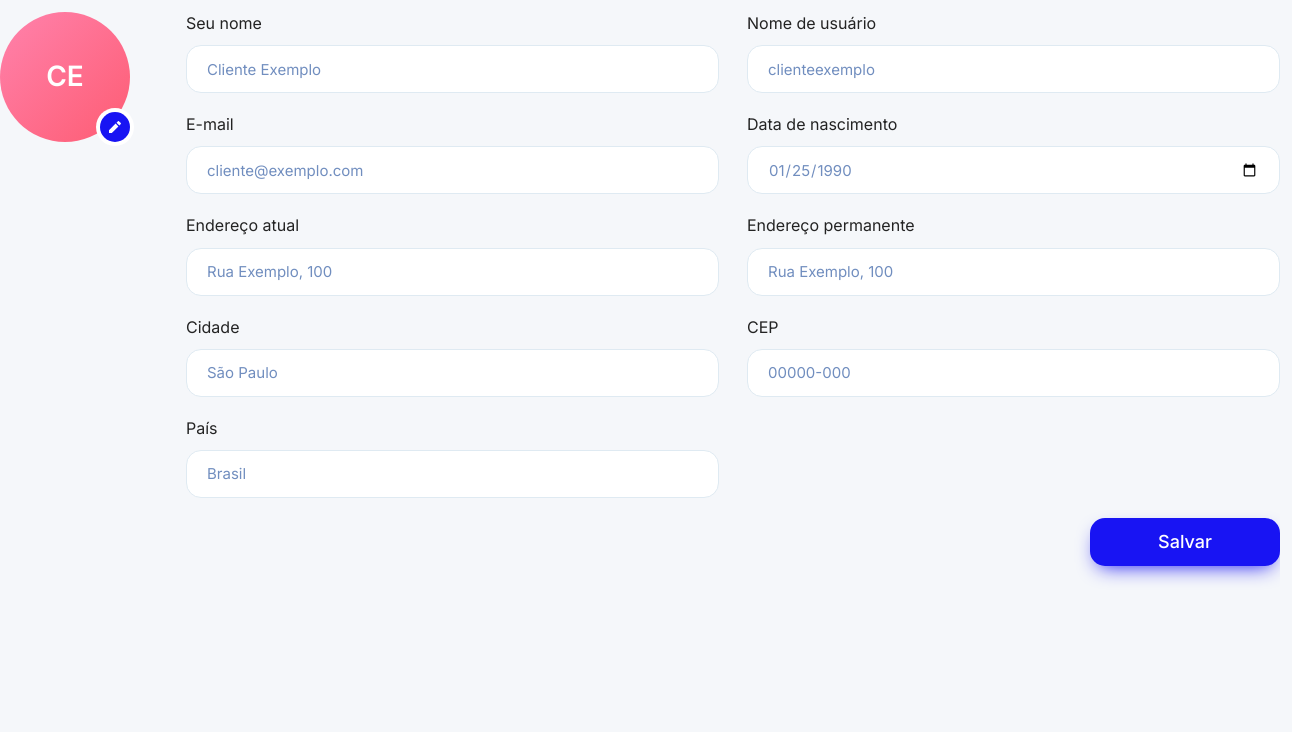
Scenario: salvar válido confirma
What coordinates should you click on to do the following:
click the button "Salvar"
I would click on:
 (1185, 542)
Its box is [1090,518,1280,566].
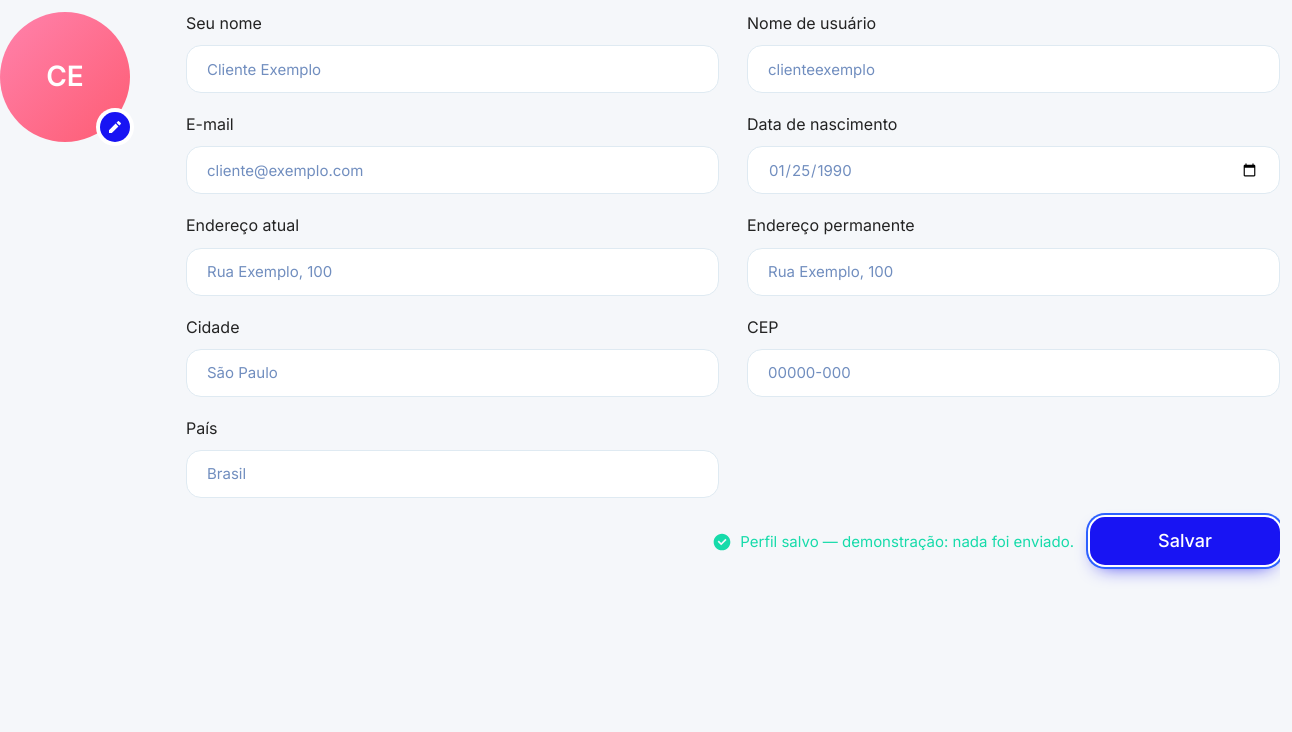
Now the message shows "Perfil salvo", box [740,532,1074,551]
